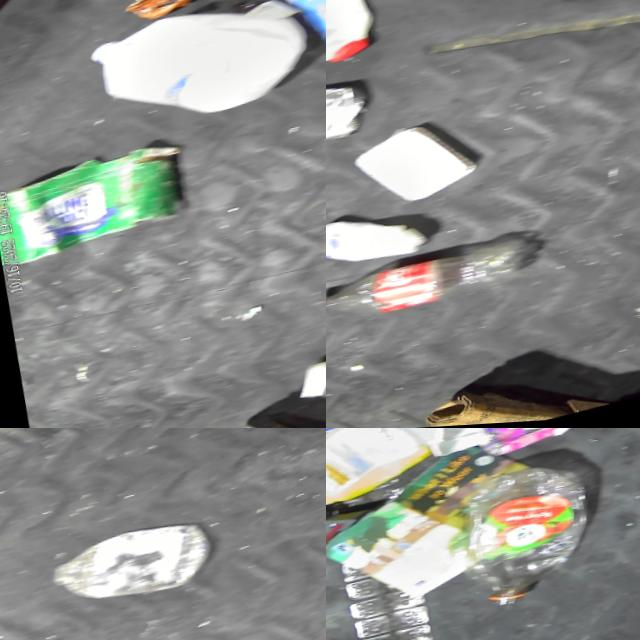can: (326, 77, 376, 159)
milk_jug: (83, 0, 320, 144), (326, 0, 386, 92)
non_white_jug: (326, 428, 443, 527)
plastic_bottle: (447, 456, 606, 624), (326, 236, 537, 336), (40, 516, 219, 624)
